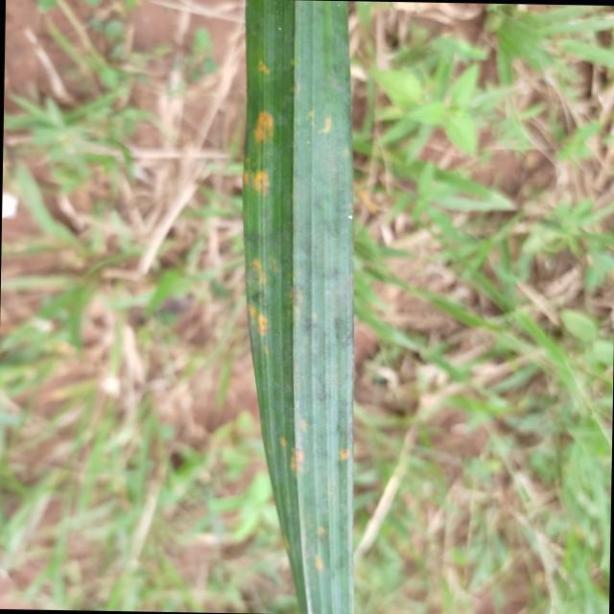Kalium: (243, 0, 358, 614)
